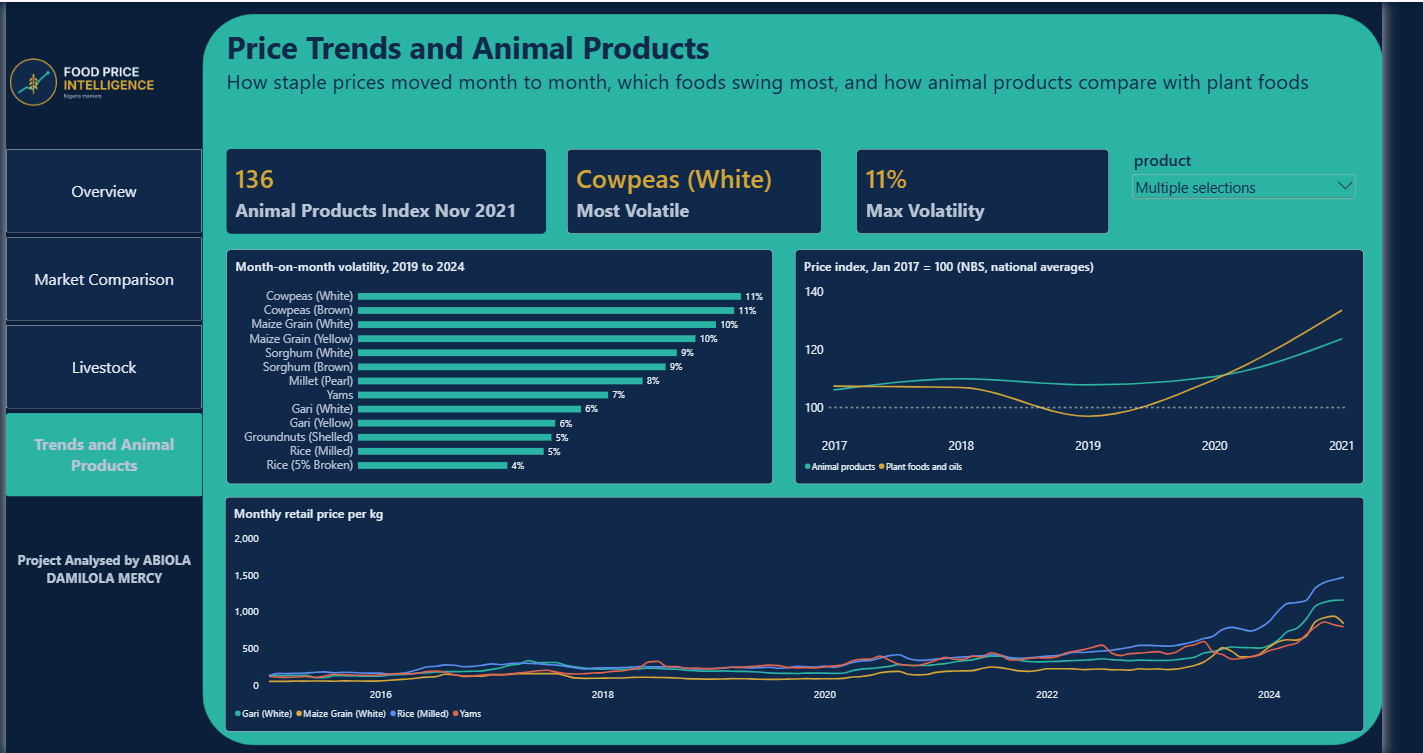

Layout of this report page (visuals, bound fields, positions):
{"tool":"powerbi","page":{"name":"Trends and Animal Products","canvas":[2520,1380],"ordinal":3},"visuals":[{"type":"shape","box":[359.2,22.2,2161.5,1338.4],"z":0},{"type":"textbox","box":[403.6,44.4,2077.5,181.5],"z":1000},{"type":"cardVisual","title":"Biggest rise","fields":{"Data":["FEWS_Prices.Animal Products Index Nov 2021"]},"box":[403.6,270.3,585.1,155.5],"z":2000},{"type":"cardVisual","fields":{"Data":["FEWS_Prices.Most Volatile"]},"box":[1025.8,270.3,466.6,155.5],"z":3000},{"type":"cardVisual","fields":{"Data":["FEWS_Prices.Max Volatility"]},"box":[1555.3,270.3,462.9,155.5],"z":4000},{"type":"pageNavigator","box":[0,270.3,359.2,636.9],"z":5000},{"type":"image","box":[0,21,359,249],"z":6000},{"type":"textbox","box":[0,1006.1,359.7,353.6],"z":7000},{"type":"lineChart","title":"Price index, Jan 2017 = 100 (NBS, national averages)","fields":{"Category":["public bi_nbs_index.price_month.Variation.Date Hierarchy.Year","public bi_nbs_index.price_month.Variation.Date Hierarchy.Quarter","public bi_nbs_index.price_month.Variation.Date Hierarchy.Month","public bi_nbs_index.price_month.Variation.Date Hierarchy.Day"],"Series":["public bi_nbs_index.food_group"],"Y":["FEWS_Prices.Food Price Index"]},"box":[1444.2,451.8,1040.6,429.6],"z":8000},{"type":"barChart","title":"Month-on-month volatility, 2019 to 2024","fields":{"Category":["Dim_Product.product"],"Y":["FEWS_Prices.Volatility (pts)"]},"box":[403.6,451.8,999.8,429.6],"z":9000},{"type":"slicer","fields":{"Values":["public bi_monthly_trend.product"]},"box":[2055.2,270.3,418.5,155.5],"z":10000},{"type":"lineChart","title":"Monthly retail price per kg","fields":{"Y":["Sum(public bi_monthly_trend.avg_price_ngn_per_kg)"],"Category":["public bi_monthly_trend.month"],"Series":["public bi_monthly_trend.product"]},"box":[399.9,907.3,2084.9,429.6],"z":11000}]}

Visuals, with their boxes on the page's 2520x1380 design canvas (x1, y1, x2, y2). These are canvas units, not pixel positions in the 1423x753 screenshot, which may show the page scaled, cropped or inside an application window:
shape: {"left": 359, "top": 22, "right": 2521, "bottom": 1361}
textbox: {"left": 404, "top": 44, "right": 2481, "bottom": 226}
"Biggest rise" cardVisual: {"left": 404, "top": 270, "right": 989, "bottom": 426}
cardVisual - FEWS_Prices.Most Volatile: {"left": 1026, "top": 270, "right": 1492, "bottom": 426}
cardVisual - FEWS_Prices.Max Volatility: {"left": 1555, "top": 270, "right": 2018, "bottom": 426}
pageNavigator: {"left": 0, "top": 270, "right": 359, "bottom": 907}
image: {"left": 0, "top": 21, "right": 359, "bottom": 270}
textbox: {"left": 0, "top": 1006, "right": 360, "bottom": 1360}
"Price index, Jan 2017 = 100 (NBS, national averages)" lineChart: {"left": 1444, "top": 452, "right": 2485, "bottom": 881}
"Month-on-month volatility, 2019 to 2024" barChart: {"left": 404, "top": 452, "right": 1403, "bottom": 881}
slicer - public bi_monthly_trend.product: {"left": 2055, "top": 270, "right": 2474, "bottom": 426}
"Monthly retail price per kg" lineChart: {"left": 400, "top": 907, "right": 2485, "bottom": 1337}
